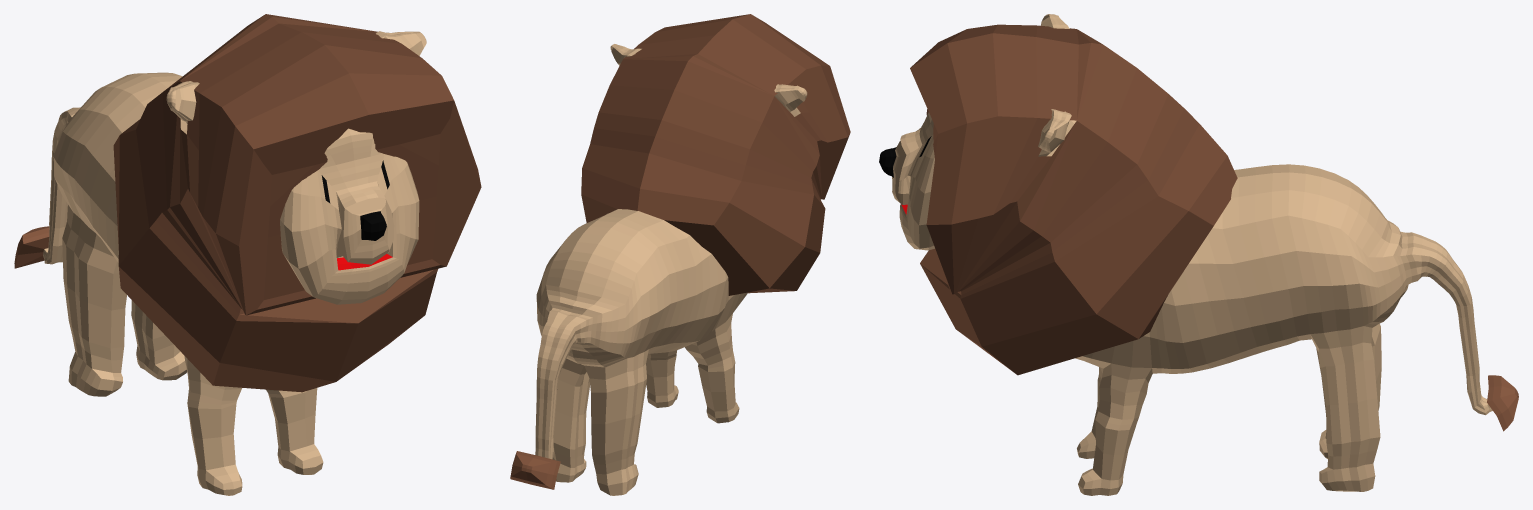
Rendered from Lion.fbx.
3 renders of one model, left to right at view 1: azimuth 30°, elevation 25°; view 2: azimuth 150°, elevation 25°; view 3: azimuth 270°, elevation 25°, orthographic. The views are drawn at different scales.
Visible parts, largest first — view 1: Lioon_hair, Lion_body; view 2: Lioon_hair, Lion_body; view 3: Lioon_hair, Lion_body.
Boxes of the visible parts, x1,y1,x2,y2 form: Lioon_hair: [113, 14, 481, 392]; Lion_body: [14, 31, 426, 495]; Lioon_hair: [581, 14, 850, 295]; Lion_body: [510, 44, 807, 495]; Lioon_hair: [910, 24, 1237, 375]; Lion_body: [879, 14, 1518, 495].
Size of the model in its own units: 521 by 815 by 1054.
